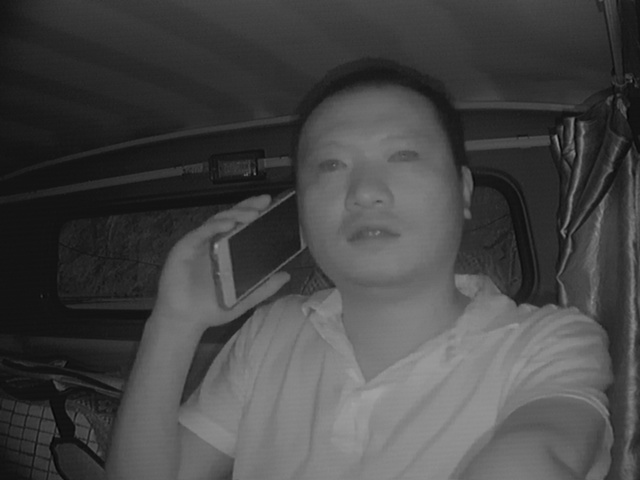hand: (158, 199, 284, 319)
